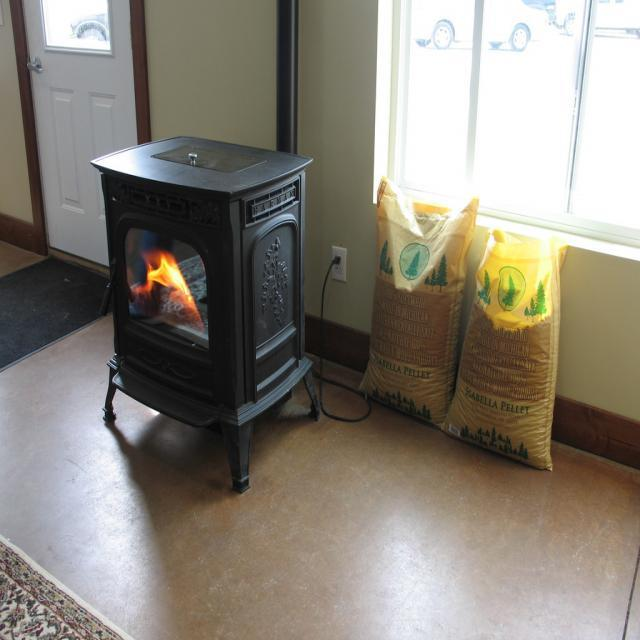Fire: (142, 246, 204, 326)
